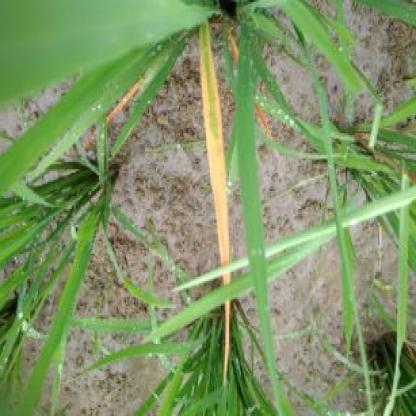Tungro: (194, 1, 237, 378)
